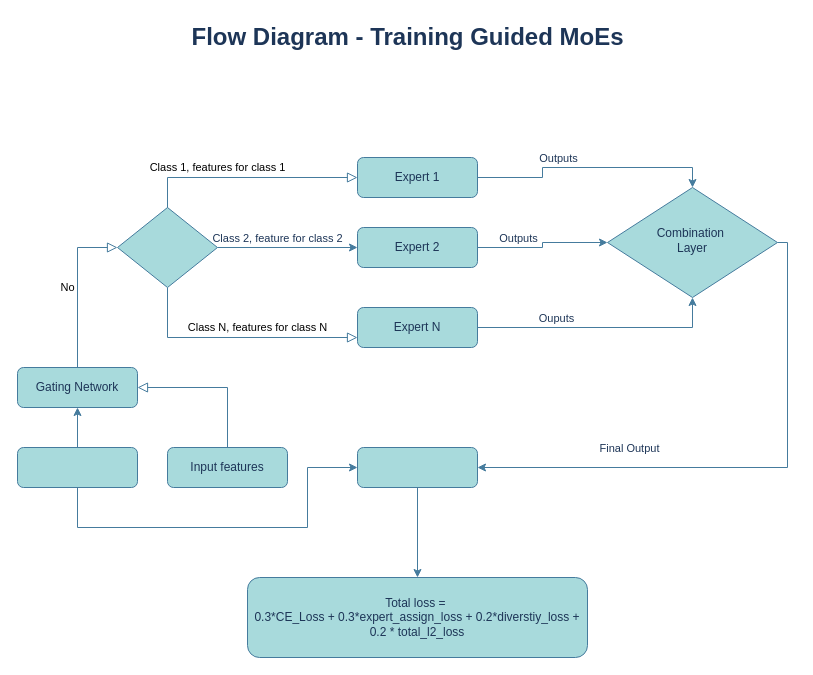
This 813x675 diagram has some shape labels left out. The shapes that lost their labels are listed below. From the top down, each one's centre as x and y in pixels, then its label:
At point 167,247: "Routing".
At point 77,467: "Class Label".
At point 417,467: "Loss computation".
